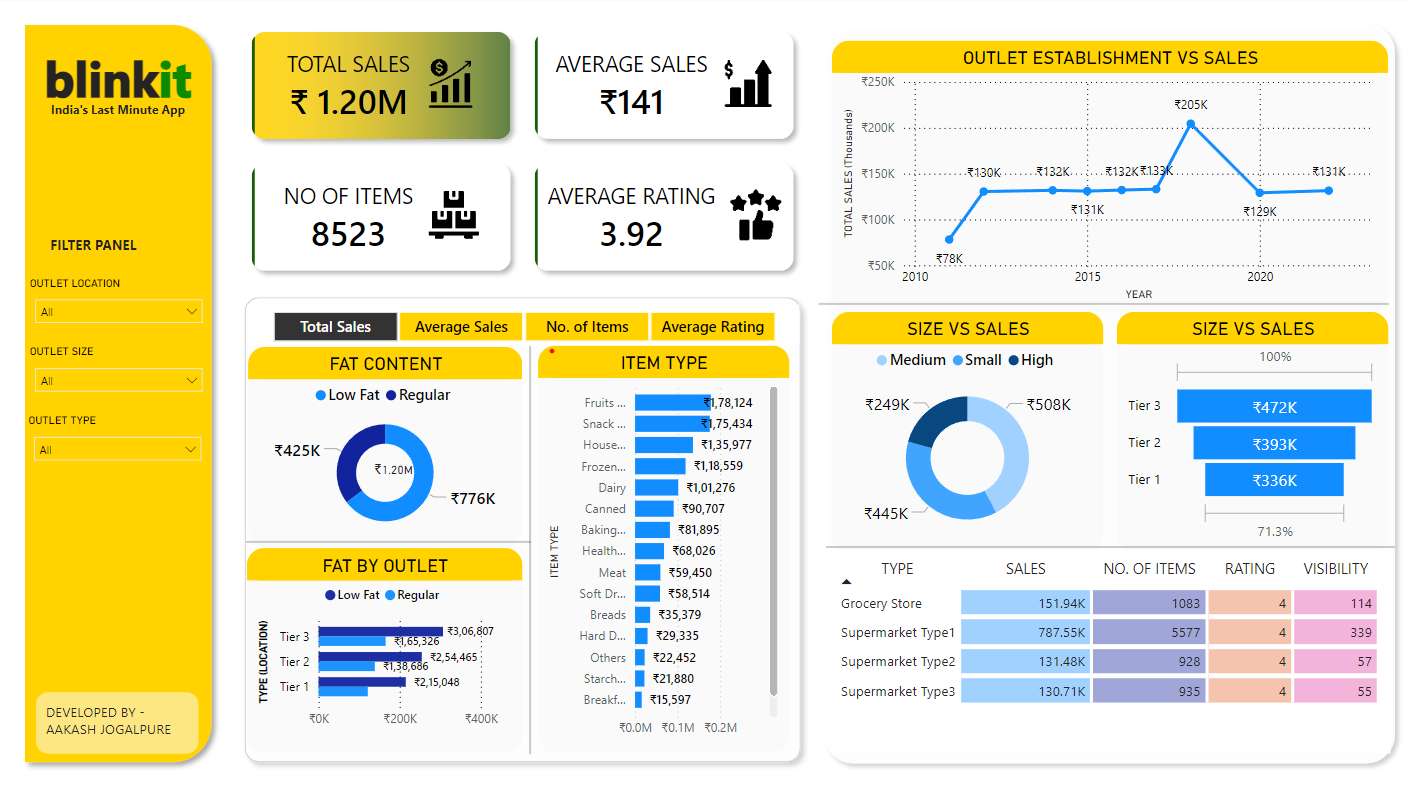

The dashboard page shown, as its layout file describes it:
{"tool":"powerbi","page":{"name":"Page 1","canvas":[1400,800],"ordinal":0},"visuals":[{"type":"shape","box":[810,18.3,583.3,750],"z":0},{"type":"shape","box":[18.6,18.6,205,750],"z":1000},{"type":"textbox","box":[38.8,43.1,164.6,76.9],"z":2000},{"type":"textbox","box":[38.8,98.1,164.7,27.8],"z":3000},{"type":"cardVisual","fields":{"Data":["BlinkIT Grocery Data.Total Sales","BlinkIT Grocery Data.Average Sales","BlinkIT Grocery Data.No. of Items","BlinkIT Grocery Data.Average Rating"]},"box":[235.7,18.6,570,270],"z":4000},{"type":"shape","box":[235.7,288.6,570,480],"z":5000},{"type":"donutChart","title":"FAT CONTENT","fields":{"Y":["BlinkIT Grocery Data.Total Sales"],"Category":["BlinkIT Grocery Data.Item Fat Content"]},"box":[248.6,345.7,272.9,200],"z":6000},{"type":"slicer","fields":{"Values":["Metrics.Metrics"]},"box":[248.6,305,546,40],"z":7000},{"type":"card","fields":{"Values":["BlinkIT Grocery Data.Total Sales"]},"box":[367.6,456.7,52.9,28.6],"z":8000},{"type":"clusteredBarChart","title":"FAT BY OUTLET","fields":{"Y":["BlinkIT Grocery Data.Total Sales"],"Category":["BlinkIT Grocery Data.Outlet Location Type"],"Series":["BlinkIT Grocery Data.Item Fat Content"]},"box":[247.1,545.7,274.3,204.3],"z":9000},{"type":"shape","box":[247,528,282,24],"z":10000},{"type":"shape","box":[522,346,13,404],"z":11000},{"type":"barChart","title":"ITEM TYPE","fields":{"Y":["BlinkIT Grocery Data.Total Sales"],"Category":["BlinkIT Grocery Data.Item Type"]},"box":[535.6,345.6,250,404.4],"z":12000},{"type":"lineChart","title":"OUTLET ESTABLISHMENT VS SALES","fields":{"Y":["BlinkIT Grocery Data.Total Sales"],"Category":["BlinkIT Grocery Data.Outlet Establishment Year"]},"box":[826.7,43.3,551.7,270],"z":13000},{"type":"shape","box":[814.4,292.2,564.4,25.6],"z":14000},{"type":"donutChart","title":"SIZE VS SALES","fields":{"Y":["BlinkIT Grocery Data.Total Sales"],"Category":["BlinkIT Grocery Data.Outlet Size"]},"box":[826.7,311.7,270,240],"z":15000},{"type":"funnel","title":"SIZE VS SALES","fields":{"Y":["BlinkIT Grocery Data.Total Sales"],"Category":["BlinkIT Grocery Data.Outlet Location Type"]},"box":[1108.3,311.7,270,240],"z":16000},{"type":"shape","box":[821.7,531.7,563.3,26.7],"z":17000},{"type":"pivotTable","fields":{"Rows":["BlinkIT Grocery Data.Outlet Type"],"Values":["Sum(BlinkIT Grocery Data.Sales)","BlinkIT Grocery Data.No. of Items","BlinkIT Grocery Data.Average Rating","Sum(BlinkIT Grocery Data.Item Visibility)"]},"box":[826.7,548.3,553.3,201.7],"z":18000},{"type":"slicer","title":"OUTLET LOCATION","fields":{"Values":["BlinkIT Grocery Data.Outlet Location Type"]},"box":[28.2,277.3,186.4,56.4],"z":19000},{"type":"slicer","title":"OUTLET SIZE","fields":{"Values":["BlinkIT Grocery Data.Outlet Size"]},"box":[28.2,345.5,186.4,56.4],"z":20000},{"type":"slicer","title":"OUTLET TYPE","fields":{"Values":["BlinkIT Grocery Data.Outlet Type"]},"box":[27.3,413.6,186.4,57.3],"z":21000},{"type":"textbox","box":[39.1,232.7,113.6,31.8],"z":22000},{"type":"textbox","box":[39.1,689.1,160.9,60.9],"z":23000}]}

Visuals, with their boxes in screenshot pixels (x1, y1, x2, y2), scaled from the page's 1400x800 canvas onto the 1407x800 screenshot:
shape: [left=814, top=18, right=1400, bottom=768]
shape: [left=19, top=19, right=225, bottom=769]
textbox: [left=39, top=43, right=204, bottom=120]
textbox: [left=39, top=98, right=205, bottom=126]
cardVisual - BlinkIT Grocery Data.Total Sales x BlinkIT Grocery Data.Average Sales: [left=237, top=19, right=810, bottom=289]
shape: [left=237, top=289, right=810, bottom=769]
"FAT CONTENT" donutChart: [left=250, top=346, right=524, bottom=546]
slicer - Metrics.Metrics: [left=250, top=305, right=799, bottom=345]
card - BlinkIT Grocery Data.Total Sales: [left=369, top=457, right=423, bottom=485]
"FAT BY OUTLET" clusteredBarChart: [left=248, top=546, right=524, bottom=750]
shape: [left=248, top=528, right=532, bottom=552]
shape: [left=525, top=346, right=538, bottom=750]
"ITEM TYPE" barChart: [left=538, top=346, right=790, bottom=750]
"OUTLET ESTABLISHMENT VS SALES" lineChart: [left=831, top=43, right=1385, bottom=313]
shape: [left=818, top=292, right=1386, bottom=318]
"SIZE VS SALES" donutChart: [left=831, top=312, right=1102, bottom=552]
"SIZE VS SALES" funnel: [left=1114, top=312, right=1385, bottom=552]
shape: [left=826, top=532, right=1392, bottom=558]
pivotTable - BlinkIT Grocery Data.Outlet Type x Sum(BlinkIT Grocery Data.Sales): [left=831, top=548, right=1387, bottom=750]
"OUTLET LOCATION" slicer: [left=28, top=277, right=216, bottom=334]
"OUTLET SIZE" slicer: [left=28, top=346, right=216, bottom=402]
"OUTLET TYPE" slicer: [left=27, top=414, right=215, bottom=471]
textbox: [left=39, top=233, right=153, bottom=264]
textbox: [left=39, top=689, right=201, bottom=750]
